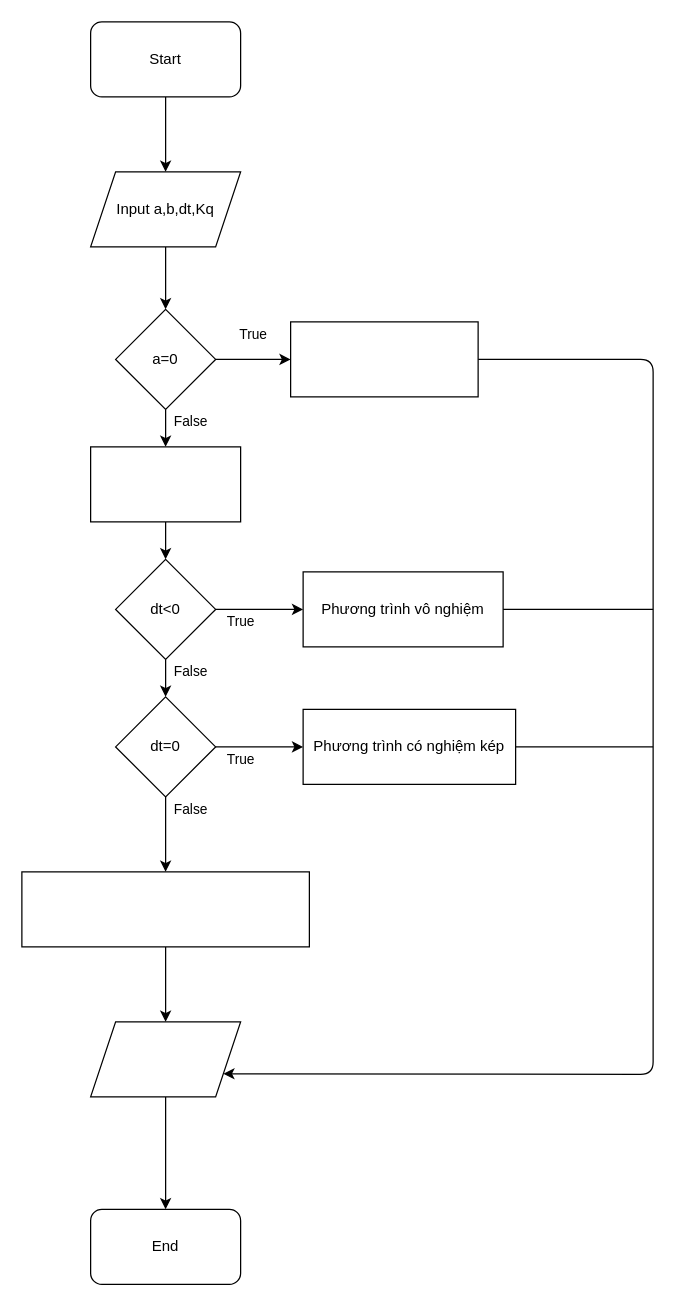
The diagram is 685 pixels wide and 1306 high, and some of its shapes have lost their labels. Here are the shapes that lost their labels. From the top down, the centre of each, then its label:
At point 383,359: "Phương trình bậc 1".
At point 165,484: "dt=b*b-4*a*c".
At point 165,909: "Phương trình có 2 nghiệm phân biệt x1=(-b+sqrt(dt))/(2*a) x2=(-b-sqrt(dt))/(2*a)".
At point 165,1059: "Output Kq".
